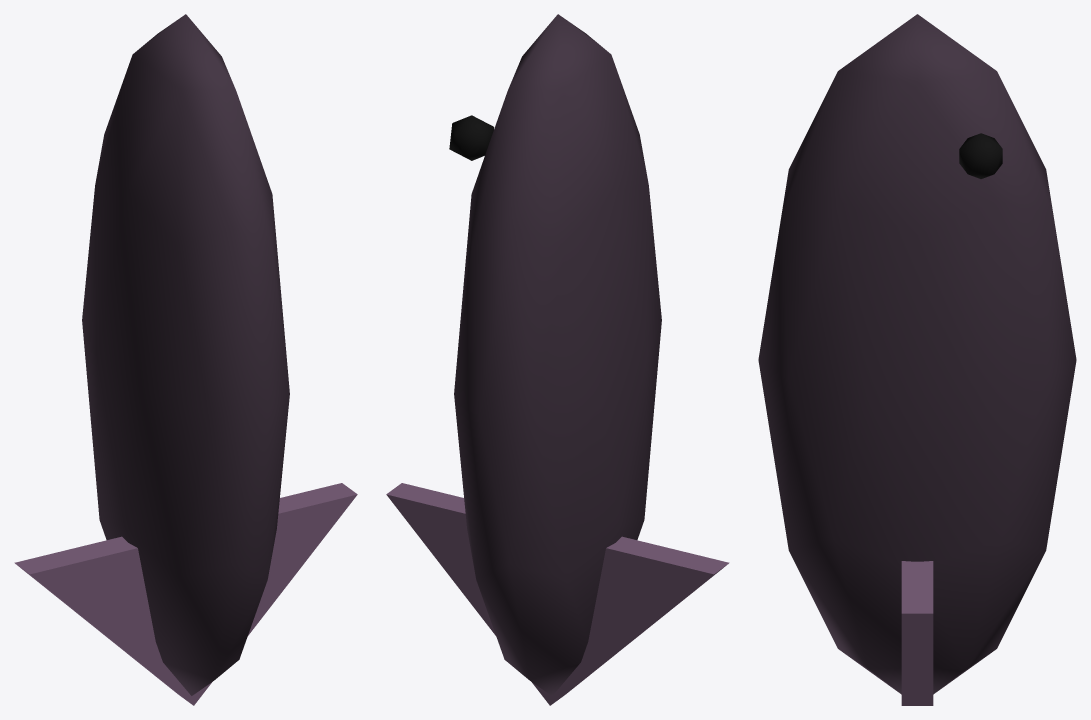
Rendered from batfish.glb.
3 views of the same model, side by side, from view 1: azimuth 30°, elevation 25°; view 2: azimuth 150°, elevation 25°; view 3: azimuth 270°, elevation 25° (orthographic).
Visible parts, largest first — view 1: batfish_v0; view 2: batfish_v0; view 3: batfish_v0.
Boxes of the visible parts, x1,y1,x2,y2 form: batfish_v0: (14,14,357,705); batfish_v0: (386,14,729,705); batfish_v0: (758,14,1076,705).
Bounding box in the file's own units: 0.12 × 0.24 × 0.1.
